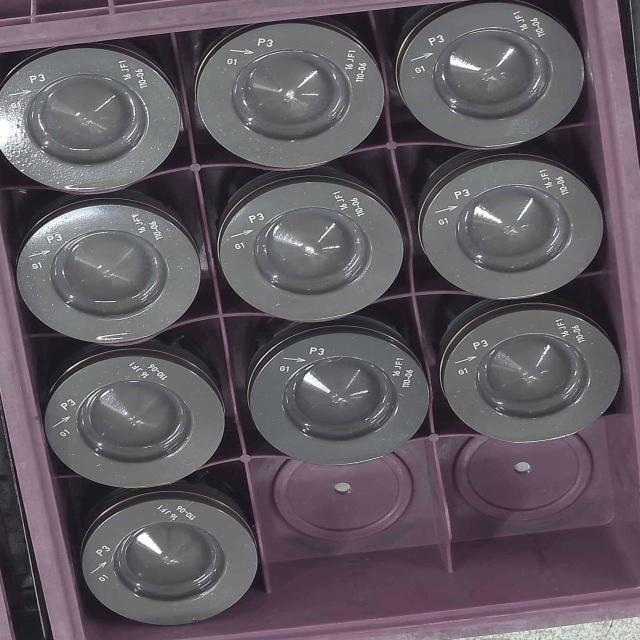P3: (396, 0, 584, 155), (196, 24, 383, 174), (12, 200, 203, 342), (34, 351, 228, 489), (416, 160, 604, 302), (216, 184, 402, 321), (74, 498, 270, 626), (0, 54, 185, 188), (438, 313, 624, 446), (248, 334, 428, 471)
